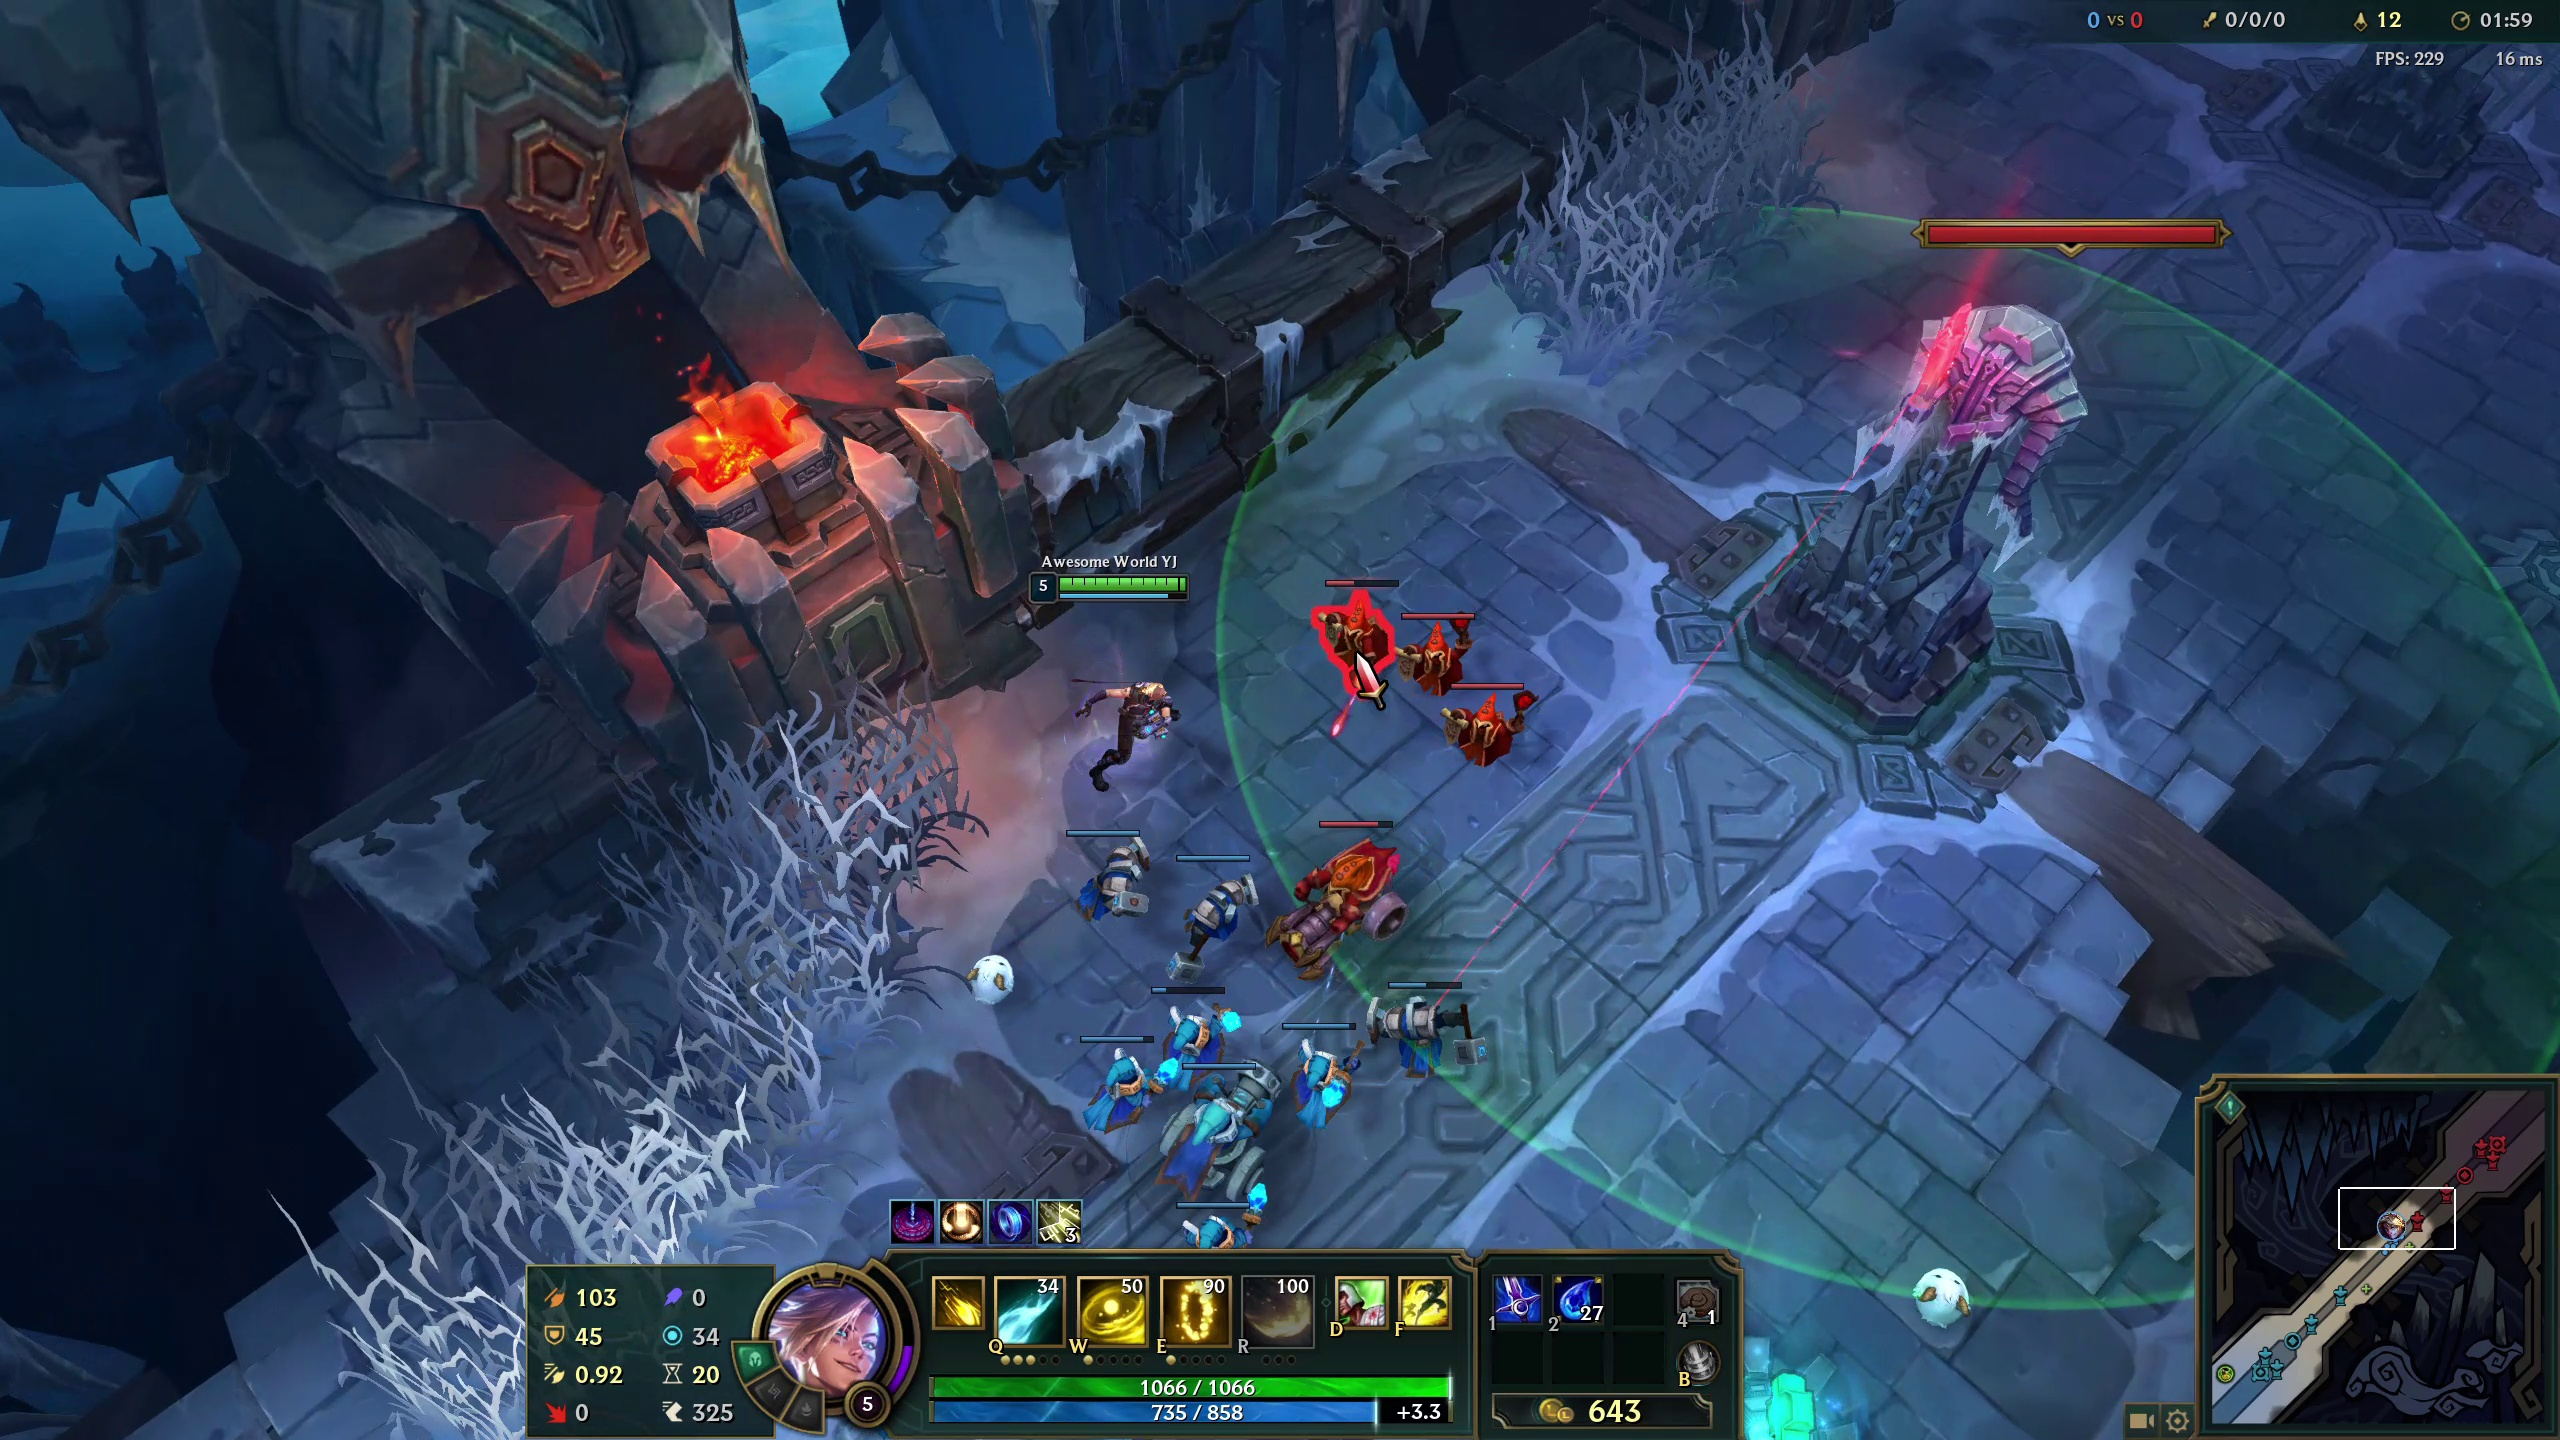EZ: (1050, 622, 1204, 849)
EnemyMinion: (1398, 596, 1495, 687), (1442, 675, 1538, 767), (1303, 593, 1400, 682)
EnemySuperMinnion: (1275, 809, 1422, 969)
Glass: (652, 726, 907, 981), (420, 1041, 675, 1294), (1531, 56, 1792, 264)
MyMinion: (1058, 823, 1169, 942), (1153, 835, 1264, 955), (1138, 960, 1248, 1080), (1378, 972, 1489, 1092), (1064, 1029, 1175, 1146), (1276, 1007, 1387, 1125), (1167, 1199, 1284, 1247)
MySuperMinnion: (1157, 1051, 1269, 1206)
Turret: (1800, 216, 1999, 644)
